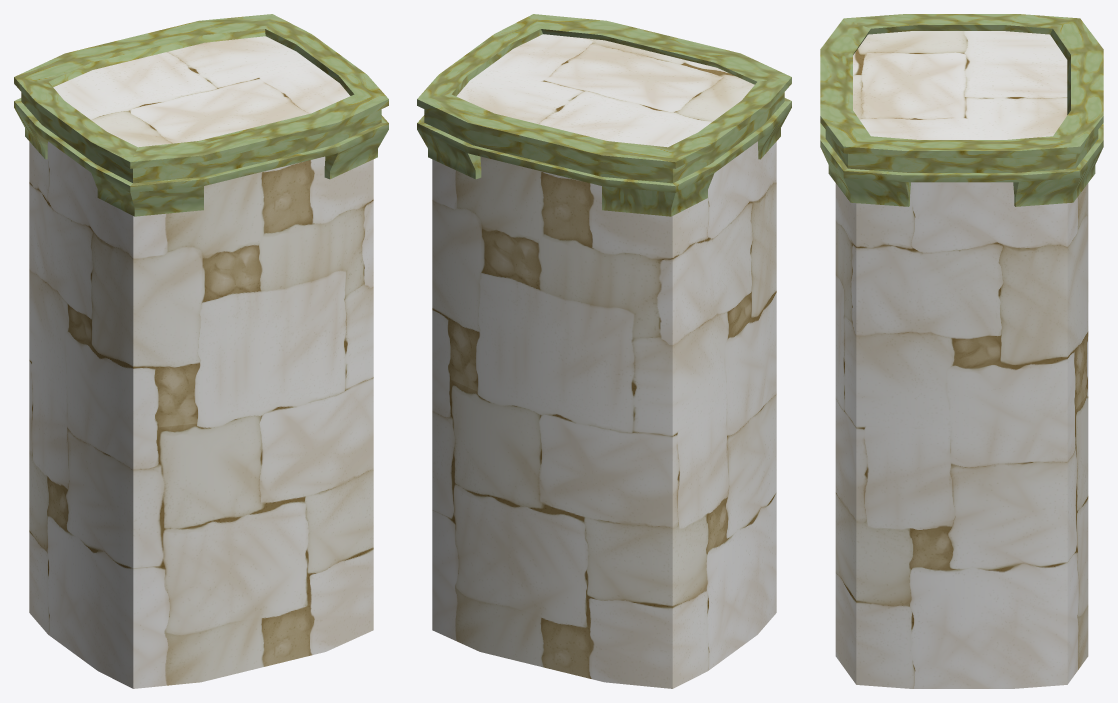
The model's file is BlockHouse_Tall.fbx.
The picture shows the model from 3 angles, left to right: view 1: azimuth 30°, elevation 25°; view 2: azimuth 150°, elevation 25°; view 3: azimuth 270°, elevation 25°; orthographic projection.
Parts seen in each view (by area): view 1: BlockHouse_Tall; view 2: BlockHouse_Tall; view 3: BlockHouse_Tall.
Part boxes in pixels (bbox=[...]): BlockHouse_Tall: bbox=[14, 14, 388, 688]; BlockHouse_Tall: bbox=[417, 14, 791, 688]; BlockHouse_Tall: bbox=[820, 14, 1103, 688].
Bounding box in the file's own units: 3.45 × 6.37 × 3.01.
